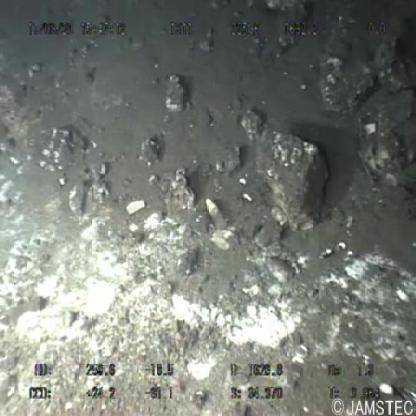Rác: (206, 199, 226, 233)
